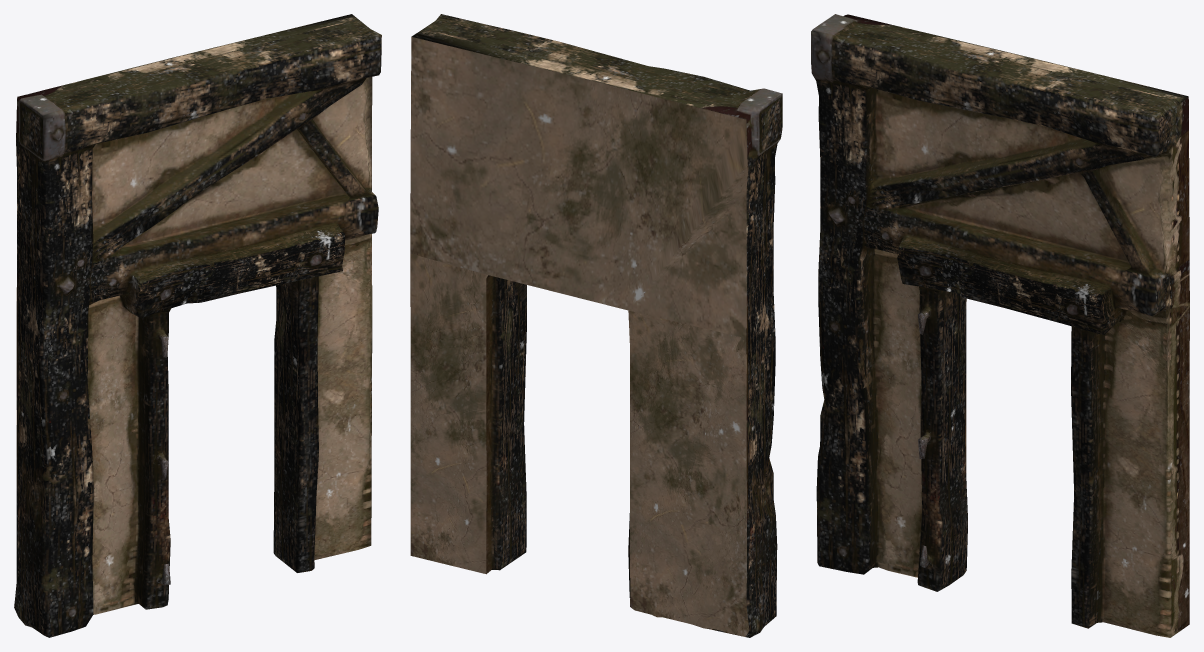
Rendered from Medieval_WallTall_Door.FBX.
The picture shows the model from 3 angles, left to right: view 1: azimuth 30°, elevation 25°; view 2: azimuth 150°, elevation 25°; view 3: azimuth 330°, elevation 25°; orthographic projection.
Parts seen in each view (by area): view 1: Medieval_WallTall_Door_LOD0; view 2: Medieval_WallTall_Door_LOD0; view 3: Medieval_WallTall_Door_LOD0.
Boxes of the visible parts, left/top/right/bottom form: Medieval_WallTall_Door_LOD0: left=14, top=14, right=381, bottom=637; Medieval_WallTall_Door_LOD0: left=410, top=14, right=782, bottom=637; Medieval_WallTall_Door_LOD0: left=811, top=14, right=1189, bottom=637.
Size of what is drawn, in the model's own units: 3.08 by 4.55 by 0.6382.
